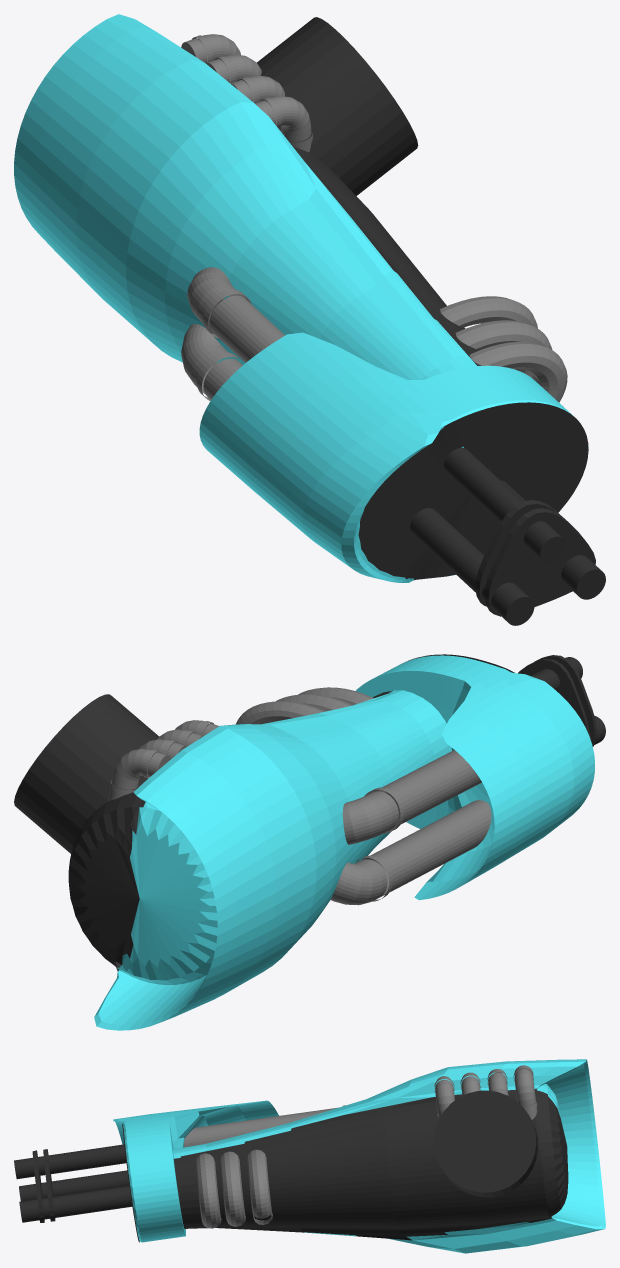
The model's file is SmallShip_Arm_L.fbx.
3 renders of one model, top to bottom at view 1: azimuth 30°, elevation 25°; view 2: azimuth 150°, elevation 25°; view 3: azimuth 270°, elevation 25°, orthographic. The views are drawn at different scales.
Parts seen in each view (by area): view 1: Cylinder.033, Cylinder.000, Cylinder.034, Cylinder.035, Cylinder.031, Cylinder.036, Cylinder.025, Cylinder.032; view 2: Cylinder.033, Cylinder.000, Cylinder.036, Cylinder.031, Cylinder.032, Cylinder.035, Cylinder.025; view 3: Cylinder.032, Cylinder.033, Cylinder.031, Cylinder.000, Cylinder.035, Cylinder.025, Cylinder.036.
Boxes of the visible parts, x1,y1,x2,y2 form: Cylinder.033: (14,14,477,379); Cylinder.000: (199,332,588,582); Cylinder.034: (358,402,588,579); Cylinder.035: (410,448,605,625); Cylinder.031: (257,17,418,195); Cylinder.036: (181,34,312,400); Cylinder.025: (440,296,567,402); Cylinder.032: (288,141,481,365); Cylinder.033: (94,690,451,1030); Cylinder.000: (355,654,594,900); Cylinder.036: (108,720,491,905); Cylinder.031: (14,694,158,853); Cylinder.032: (68,690,392,971); Cylinder.035: (518,655,605,746); Cylinder.025: (235,687,373,724); Cylinder.032: (174,1088,568,1240); Cylinder.033: (173,1059,605,1253); Cylinder.031: (434,1090,538,1197); Cylinder.000: (113,1100,278,1242); Cylinder.035: (14,1144,132,1222); Cylinder.025: (195,1149,272,1228); Cylinder.036: (183,1065,537,1147).
Bounding box in the file's own units: 144 × 117 × 333.
